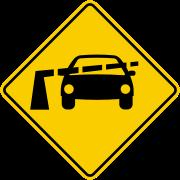Barrier Ahead: (17, 6, 170, 171)
